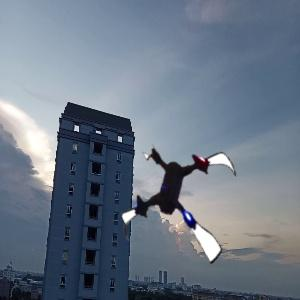drone: (115, 135, 252, 272)
